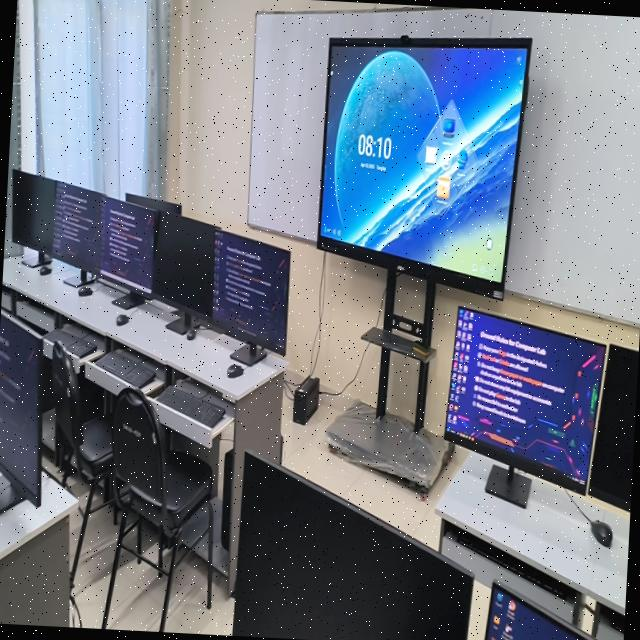Chair: (100, 387, 212, 632), (51, 341, 116, 589), (42, 409, 54, 449)
Cpu: (220, 449, 233, 549)
Digital board: (316, 33, 531, 496)
Keyboard: (445, 524, 573, 602), (155, 385, 224, 426), (94, 350, 155, 387), (43, 328, 97, 360)
Monitor: (231, 451, 472, 640), (444, 305, 604, 507), (210, 228, 289, 365), (587, 344, 639, 511), (0, 311, 43, 512), (151, 209, 214, 333), (484, 581, 597, 640), (100, 196, 155, 309), (52, 181, 101, 287), (11, 168, 56, 268), (124, 192, 181, 212)
Mouse: (589, 519, 612, 546), (226, 363, 242, 377), (77, 285, 92, 295), (115, 313, 128, 324), (186, 327, 196, 339), (39, 265, 51, 274)
